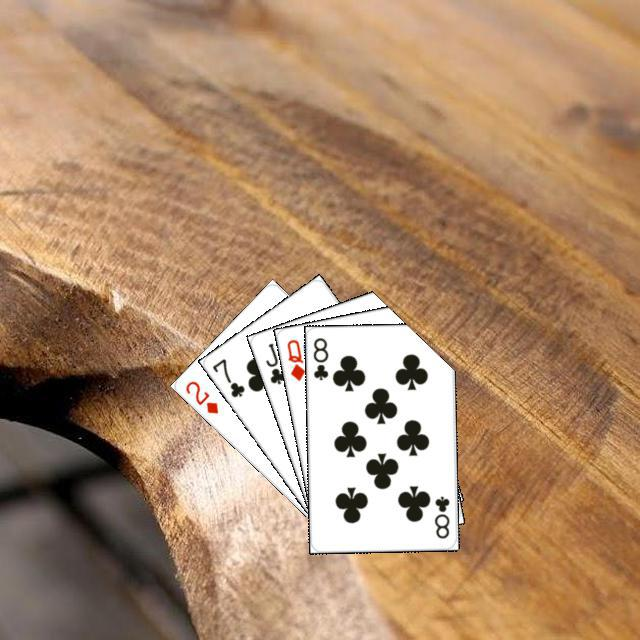2d: (180, 376, 220, 416)
7c: (207, 354, 247, 399)
8c: (308, 333, 330, 382), (429, 491, 451, 540)
Jc: (260, 338, 287, 386)
Qd: (282, 334, 307, 382)
